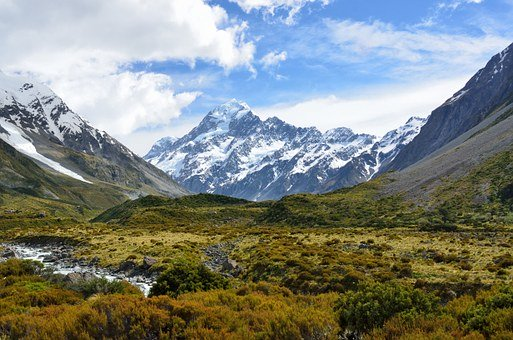field: (12, 192, 513, 337)
mountain: (5, 75, 513, 205)
sky: (2, 2, 508, 112)
